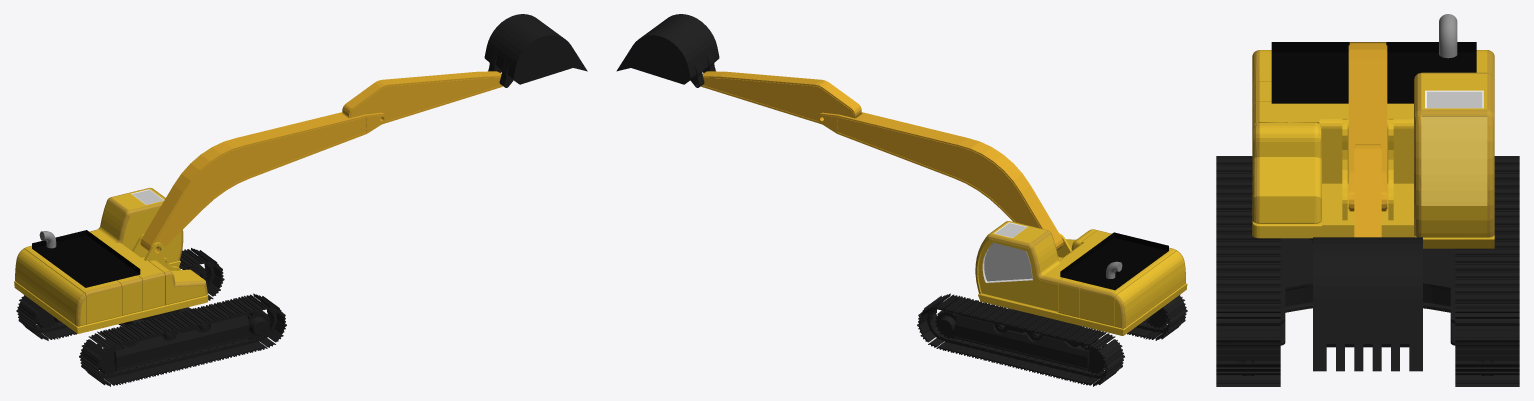
File: with_DH_link_y_up_texture.glb
3 views of the same model, side by side, from view 1: azimuth 30°, elevation 25°; view 2: azimuth 150°, elevation 25°; view 3: azimuth 270°, elevation 25° (orthographic). The views are drawn at different scales.
Parts seen in each view (by area): view 1: upper, base_link, boom, bucket, stick; view 2: upper, base_link, boom, bucket, stick; view 3: upper, base_link, bucket, boom, stick.
Part boxes in pixels (box(x1,y1,x2,y2)): upper: box(14, 187, 208, 333); base_link: box(16, 248, 286, 386); boom: box(140, 112, 386, 252); bucket: box(484, 14, 587, 87); stick: box(342, 71, 502, 124); upper: box(975, 221, 1187, 335); base_link: box(917, 293, 1187, 386); boom: box(817, 112, 1063, 250); bucket: box(616, 14, 719, 87); stick: box(701, 71, 861, 124); upper: box(1252, 14, 1494, 248); base_link: box(1216, 156, 1519, 386); bucket: box(1313, 237, 1422, 371); boom: box(1348, 42, 1387, 211); stick: box(1354, 144, 1381, 237).
Size of the model in its own units: 12.64 by 5.07 by 3.3.
